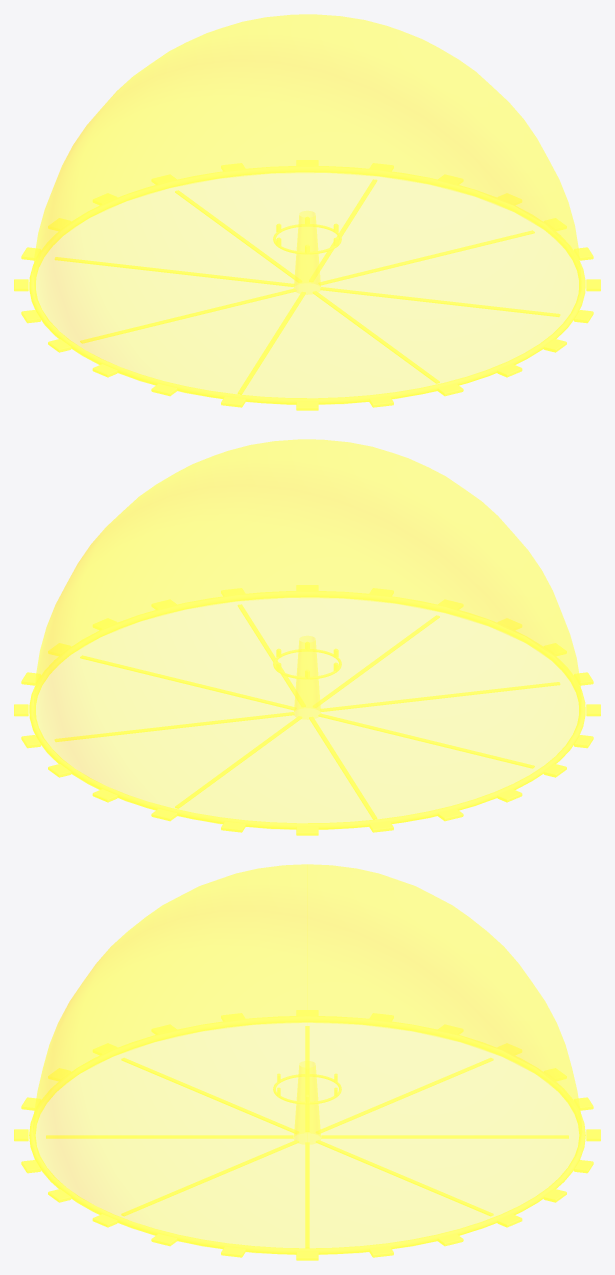
File: vfx_ability_overdrive.glb
3 views of the same model, one above another, from view 1: azimuth 30°, elevation 25°; view 2: azimuth 150°, elevation 25°; view 3: azimuth 270°, elevation 25° (orthographic).
Visible parts, largest first — view 1: od_dome, od_ring, od_pillar, od_conduit1, od_conduit5, od_conduit4, od_conduit0, od_conduit2, od_conduit6, od_conduit3; view 2: od_dome, od_ring, od_pillar, od_conduit7, od_conduit3, od_conduit4, od_conduit0, od_conduit6, od_conduit2, od_conduit5; view 3: od_dome, od_ring, od_pillar, od_conduit2, od_conduit6, od_conduit1, od_conduit7, od_conduit3, od_conduit5, od_conduit0.
Boxes of the visible parts, x1,y1,x2,y2 form: od_dome: [33, 14, 581, 404]; od_ring: [29, 166, 585, 404]; od_pillar: [294, 211, 320, 294]; od_conduit1: [320, 287, 560, 316]; od_conduit5: [54, 257, 293, 286]; od_conduit4: [80, 288, 296, 343]; od_conduit0: [319, 230, 534, 285]; od_conduit2: [312, 291, 439, 383]; od_conduit6: [175, 190, 301, 282]; od_conduit3: [237, 291, 305, 394]; od_dome: [33, 439, 581, 829]; od_ring: [29, 591, 585, 829]; od_pillar: [294, 636, 320, 719]; od_conduit7: [54, 712, 294, 741]; od_conduit3: [321, 682, 560, 711]; od_conduit4: [318, 713, 534, 768]; od_conduit0: [80, 655, 295, 710]; od_conduit6: [175, 716, 302, 808]; od_conduit2: [313, 615, 439, 707]; od_conduit5: [309, 716, 377, 819]; od_dome: [32, 864, 582, 1252]; od_ring: [29, 1016, 585, 1254]; od_pillar: [294, 1061, 320, 1144]; od_conduit2: [46, 1135, 293, 1138]; od_conduit6: [321, 1135, 568, 1138]; od_conduit1: [121, 1140, 298, 1216]; od_conduit7: [316, 1140, 493, 1216]; od_conduit3: [121, 1058, 298, 1133]; od_conduit5: [316, 1058, 493, 1133]; od_conduit0: [305, 1142, 309, 1248].
Bounding box in the file's own units: 21.34 × 10 × 21.34.
